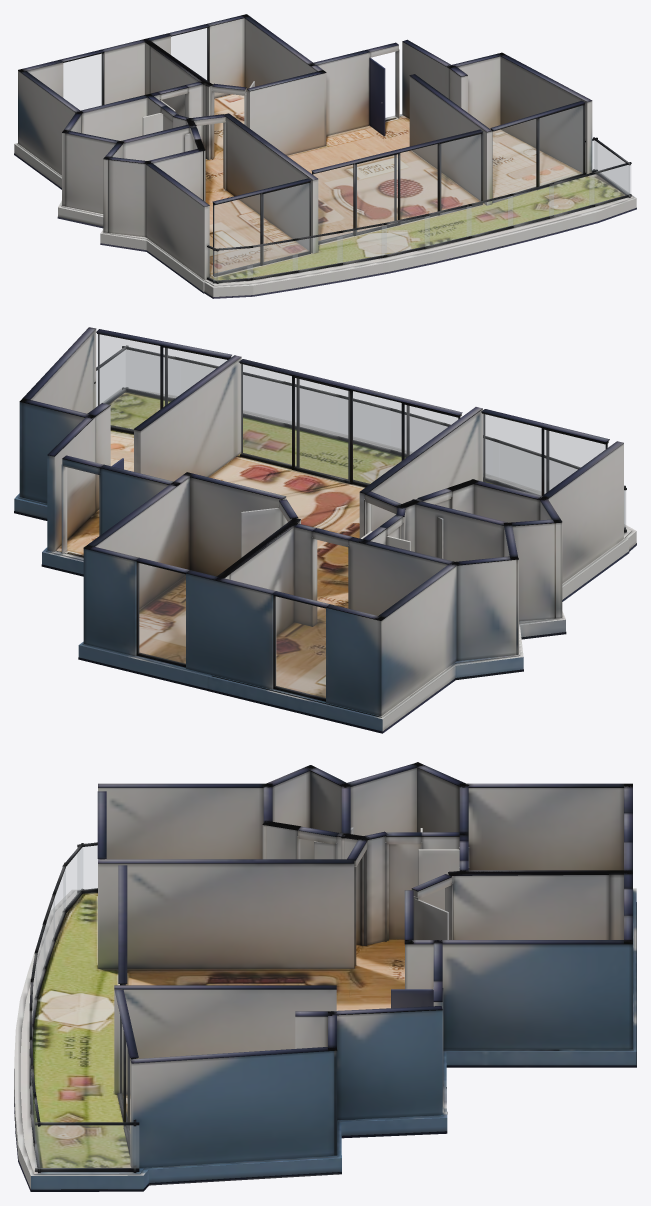
3 renders of one model, top to bottom at view 1: azimuth 30°, elevation 25°; view 2: azimuth 150°, elevation 25°; view 3: azimuth 270°, elevation 25°, orthographic. The views are drawn at different scales.
Parts seen in each view (by area): view 1: plan, glass2_m, glass3_m, glass4_m, glass0_m, railg10_m, railg9_m, railg8_m, railg7_m, railg6_m, railg1_m, railg5_m (+5 smaller); view 2: plan, glass2_m, glass3_m, glass4_m, glass0_m, glass1_m, railg6_m, railg9_m, railg5_m, railg1_m, railg3_m, railg2_m (+2 smaller); view 3: plan, railg2_m, railg12_m, railg11_m, glass3_m.
Boxes of the visible parts, <box> form: plan: <box>14,14,636,298</box>; glass2_m: <box>313,134,480,241</box>; glass3_m: <box>492,105,582,197</box>; glass4_m: <box>214,183,309,272</box>; glass0_m: <box>63,54,102,110</box>; railg10_m: <box>247,240,297,278</box>; railg9_m: <box>293,233,342,270</box>; railg8_m: <box>337,225,386,262</box>; railg7_m: <box>382,216,429,255</box>; railg6_m: <box>425,206,471,246</box>; railg1_m: <box>467,196,512,236</box>; railg5_m: <box>508,186,553,226</box>; plan: <box>14,327,636,733</box>; glass2_m: <box>241,364,460,484</box>; glass3_m: <box>97,334,226,430</box>; glass4_m: <box>483,414,605,495</box>; glass0_m: <box>275,596,325,698</box>; glass1_m: <box>138,563,185,664</box>; railg6_m: <box>344,399,390,449</box>; railg9_m: <box>499,444,540,495</box>; railg5_m: <box>243,375,283,422</box>; railg1_m: <box>290,386,337,435</box>; railg3_m: <box>126,350,173,397</box>; railg2_m: <box>96,350,125,406</box>; plan: <box>14,762,636,1191</box>; railg2_m: <box>35,1125,138,1168</box>; railg12_m: <box>78,846,97,890</box>; railg11_m: <box>64,848,82,910</box>; glass3_m: <box>119,1012,130,1137</box>.
Bounding box in the file's own units: 14.27 × 2.62 × 12.11.
Materials: 2 (1 with a texture image).
